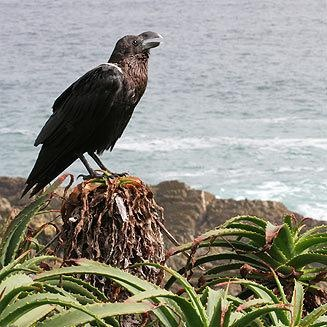bird: (15, 28, 164, 208)
